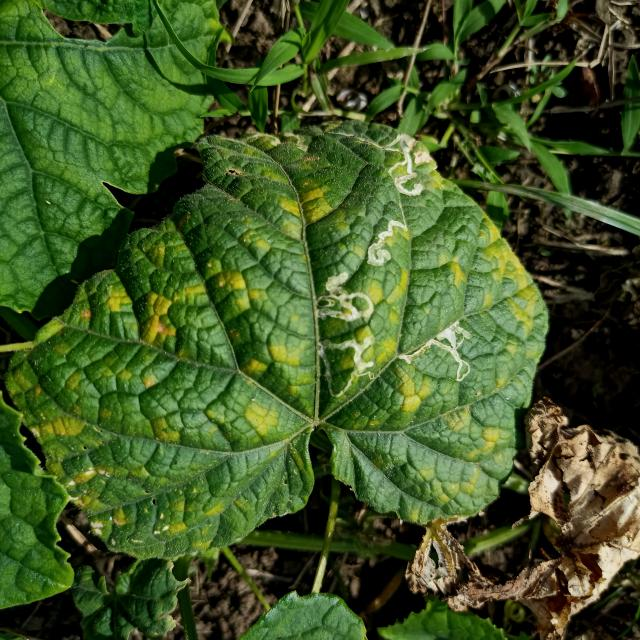disease_cucumber: (42, 134, 530, 543)
